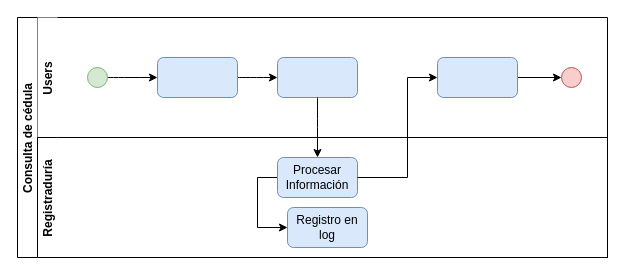
Image size: 625x275. Some labels were removed from this diagram. The shapes that lost their labels are listed below. From the top down, each one's box as (x1, y1, x2, y2) in pixels, then its label:
(156, 56, 238, 98): Generar información
(276, 56, 358, 98): Ingresar servicio de consulta
(436, 56, 518, 98): Retornar data
